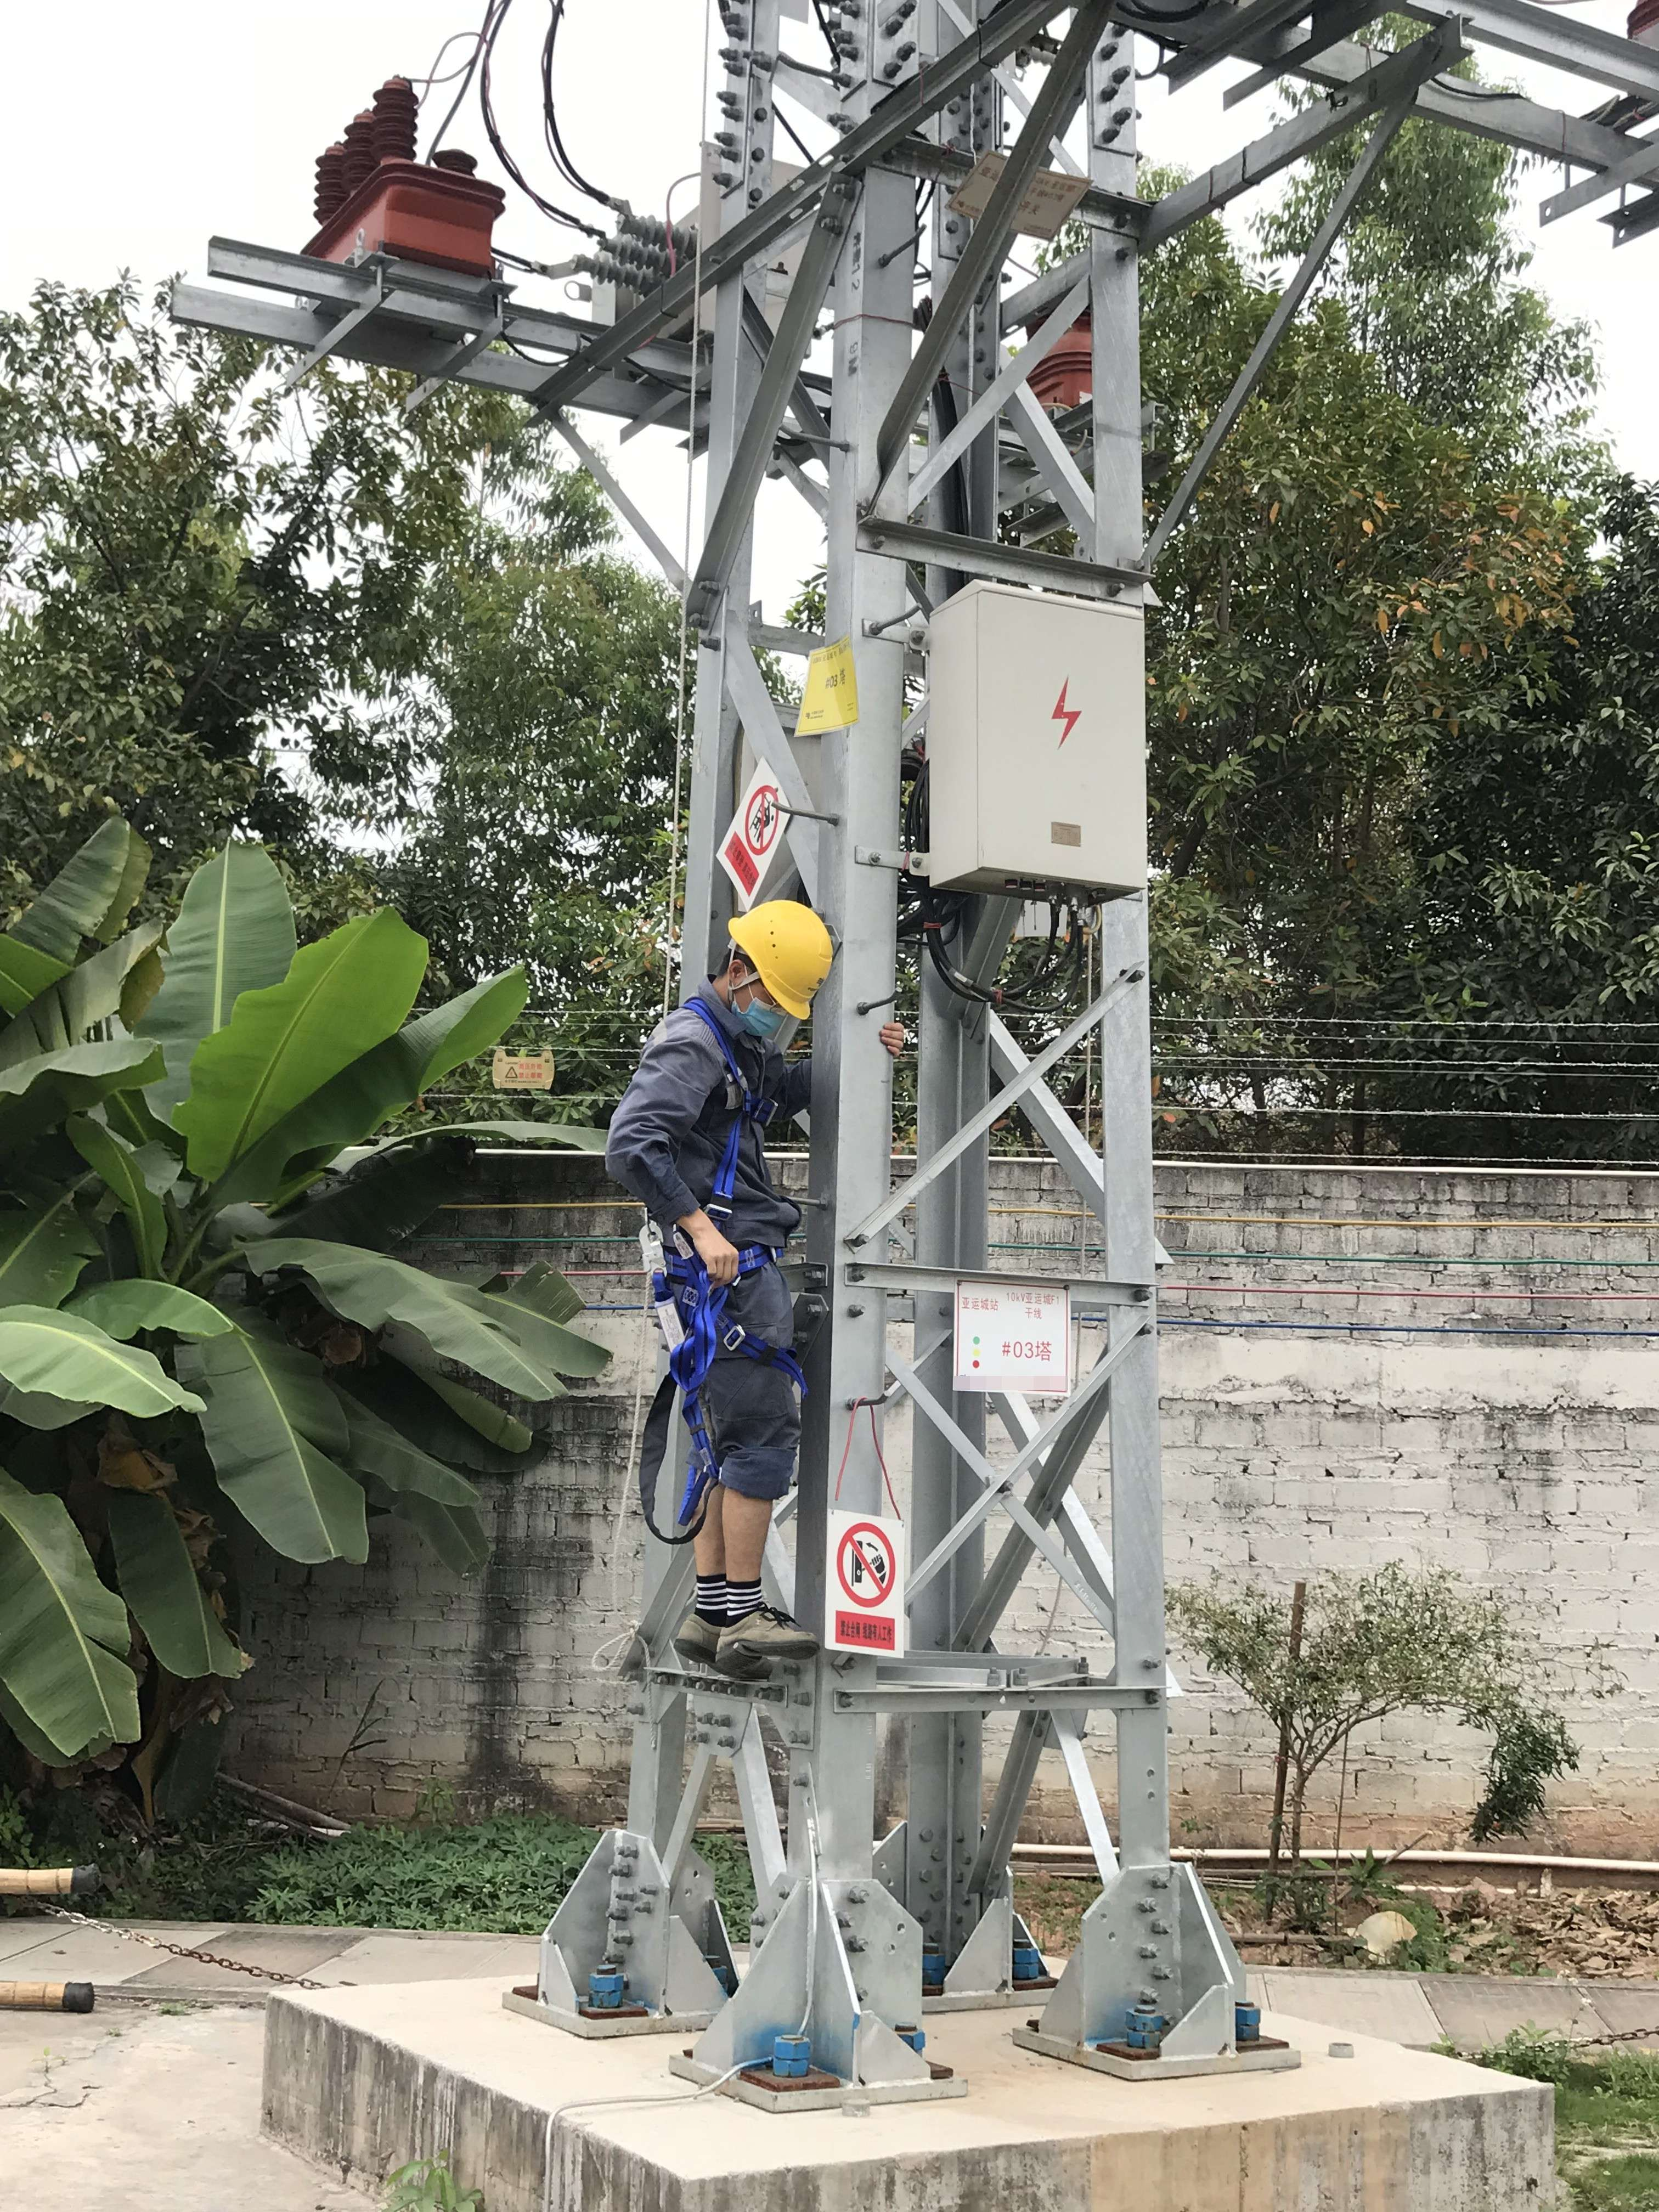downsuit: (666, 1270, 803, 1515)
upsuit: (610, 1000, 809, 1242)
wrongbottom: (690, 1447, 796, 1606)
